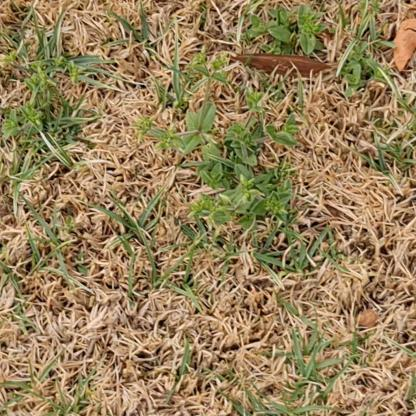Weeds: (131, 48, 306, 239), (244, 5, 372, 94), (1, 43, 78, 139)
